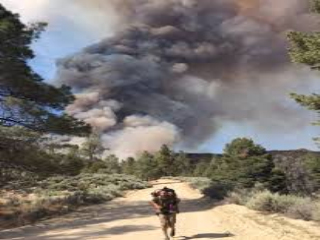smoke: (61, 17, 217, 161)
